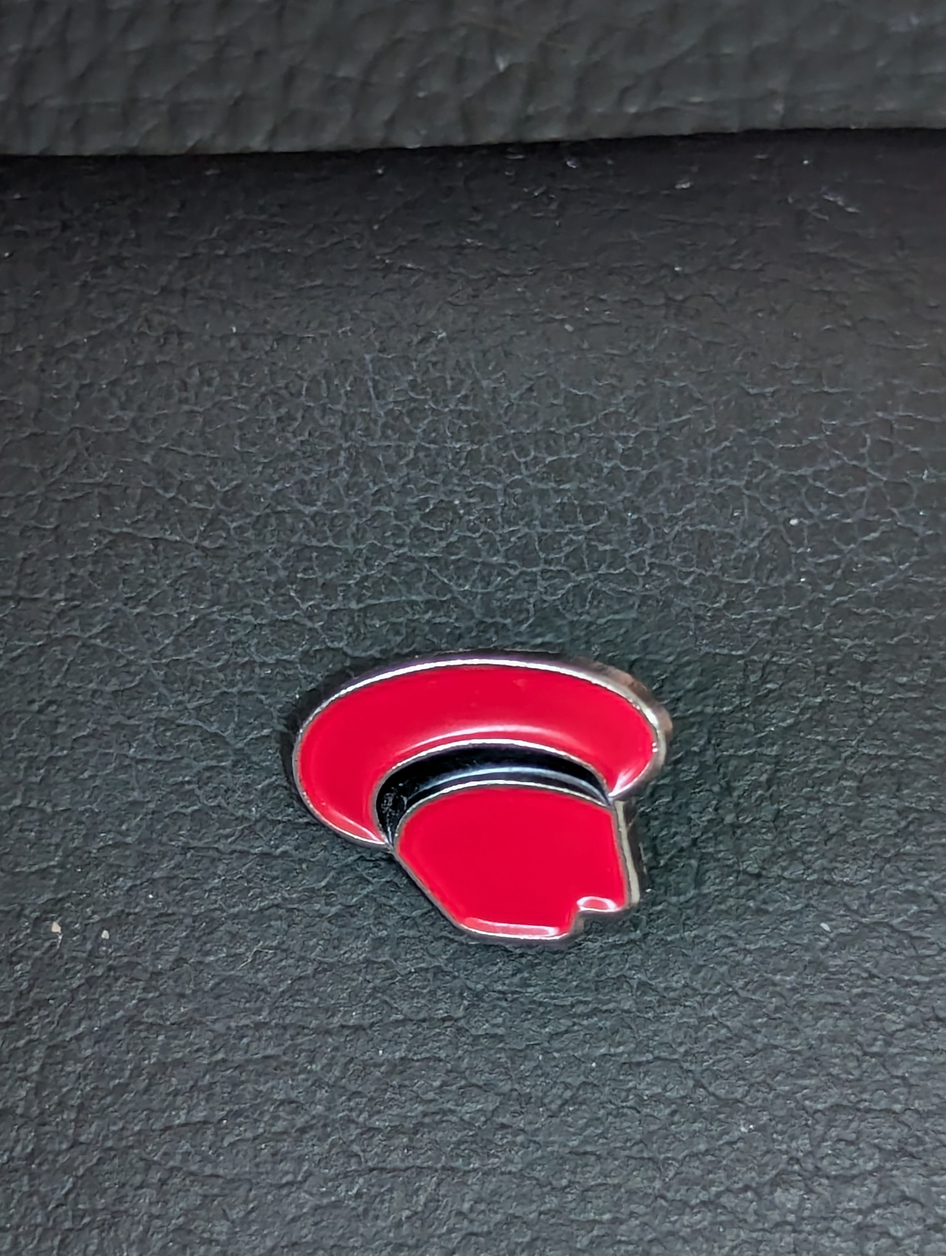Red-Hat: (217, 536, 825, 1051)
